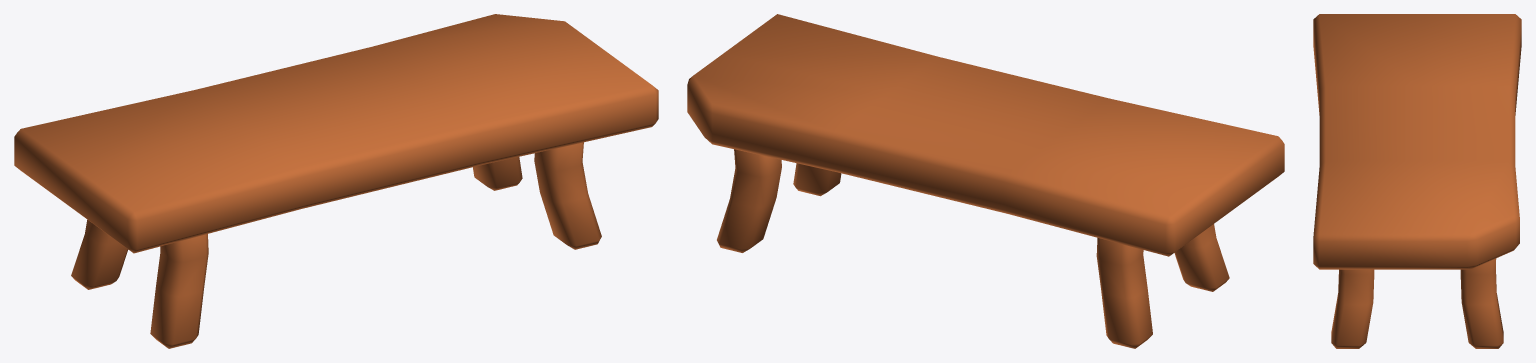
File: AS_Table.fbx
The picture shows the model from 3 angles, left to right: view 1: azimuth 30°, elevation 25°; view 2: azimuth 150°, elevation 25°; view 3: azimuth 270°, elevation 25°; orthographic projection. The views are drawn at different scales.
Parts seen in each view (by area): view 1: Cube.017; view 2: Cube.017; view 3: Cube.017.
Part boxes in pixels (bbox=[...]): Cube.017: bbox=[14, 14, 658, 348]; Cube.017: bbox=[687, 14, 1284, 348]; Cube.017: bbox=[1313, 14, 1521, 348].
Size of the model in its own units: 858 by 240 by 337.
